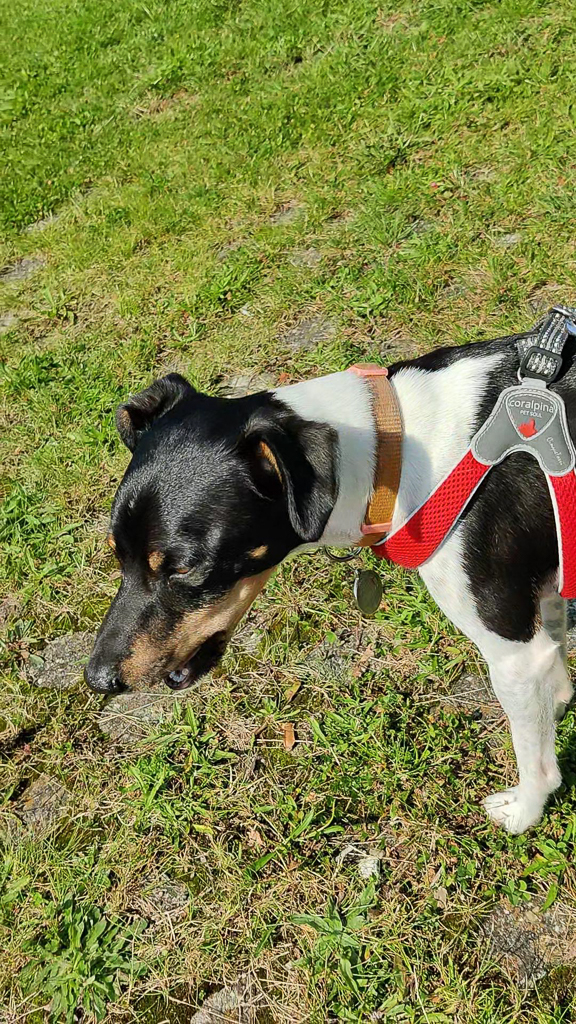Dog: (63, 268, 576, 868)
